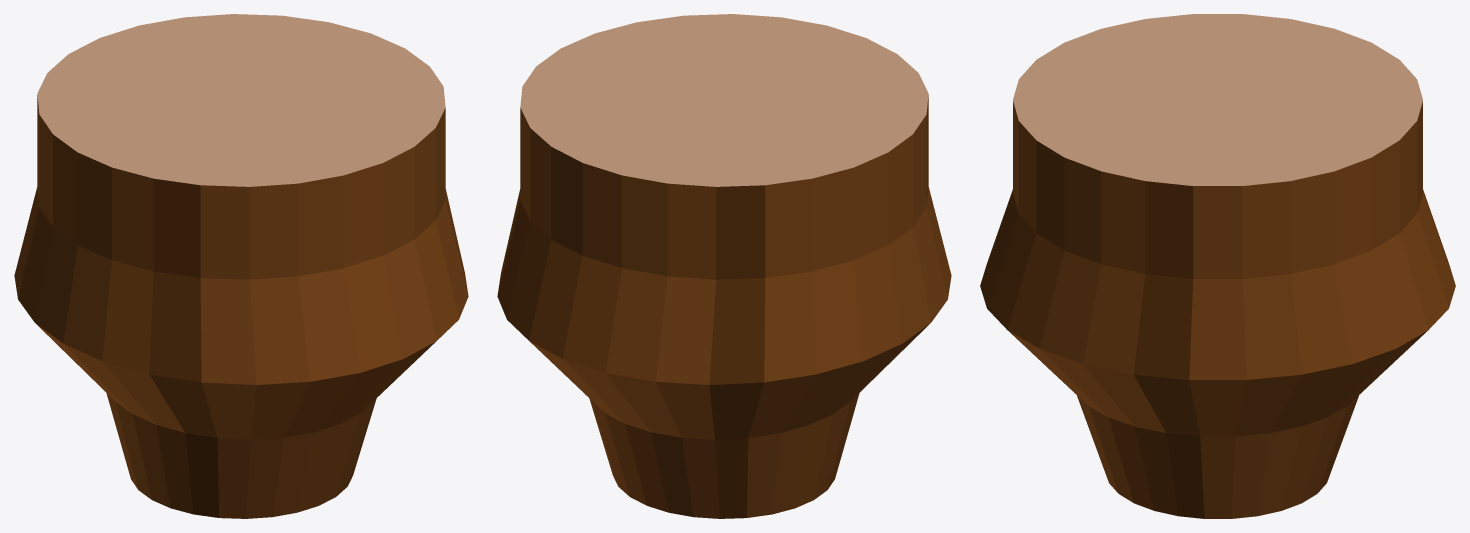
The model's file is Tronco.fbx.
3 views of the same model, side by side, from view 1: azimuth 30°, elevation 25°; view 2: azimuth 150°, elevation 25°; view 3: azimuth 270°, elevation 25° (orthographic).
Visible parts, largest first — view 1: Cylinder; view 2: Cylinder; view 3: Cylinder.
Part boxes in pixels (x1=…): Cylinder: x1=14, y1=14, x2=468, y2=518; Cylinder: x1=497, y1=14, x2=951, y2=518; Cylinder: x1=980, y1=14, x2=1455, y2=518.
Size of the model in its own units: 217 by 200 by 232.
